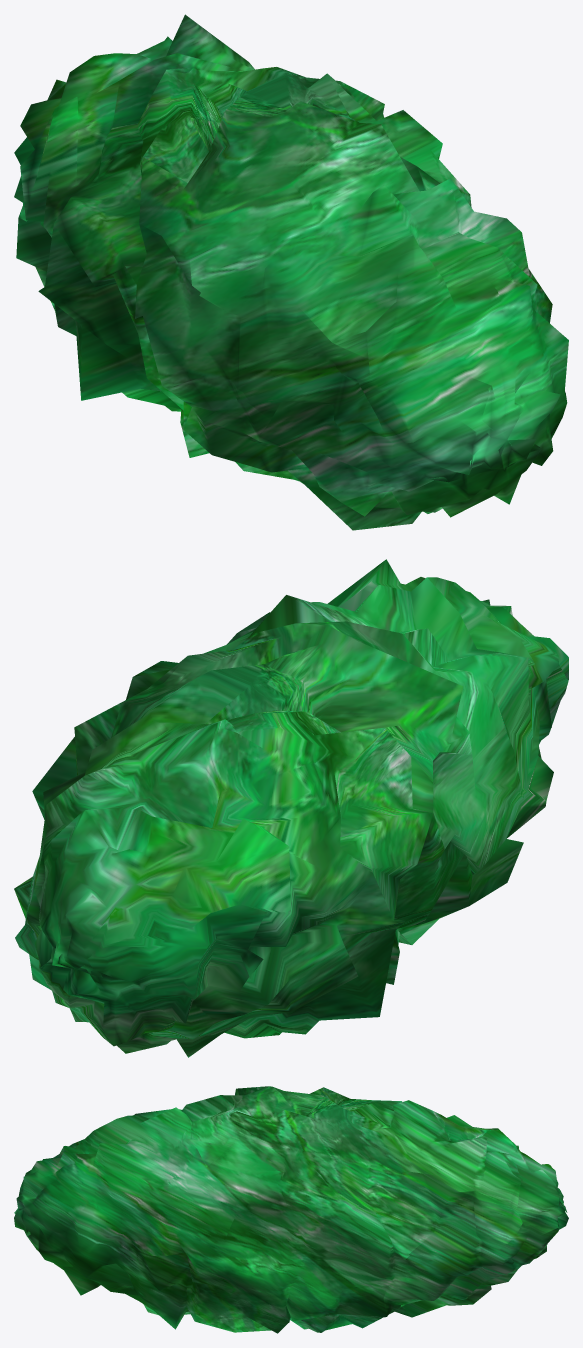
File: planetoid.fbx
3 renders of one model, top to bottom at view 1: azimuth 30°, elevation 25°; view 2: azimuth 150°, elevation 25°; view 3: azimuth 270°, elevation 25°, orthographic. The views are drawn at different scales.
Parts seen in each view (by area): view 1: Sphere; view 2: Sphere; view 3: Sphere.
Boxes of the visible parts, x1,y1,x2,y2 form: Sphere: (14, 14, 568, 530); Sphere: (14, 559, 568, 1057); Sphere: (14, 1086, 568, 1333).
Size of the model in its own units: 2.74 by 2.57 by 5.68.
Materials: 1 (1 with a texture image).
